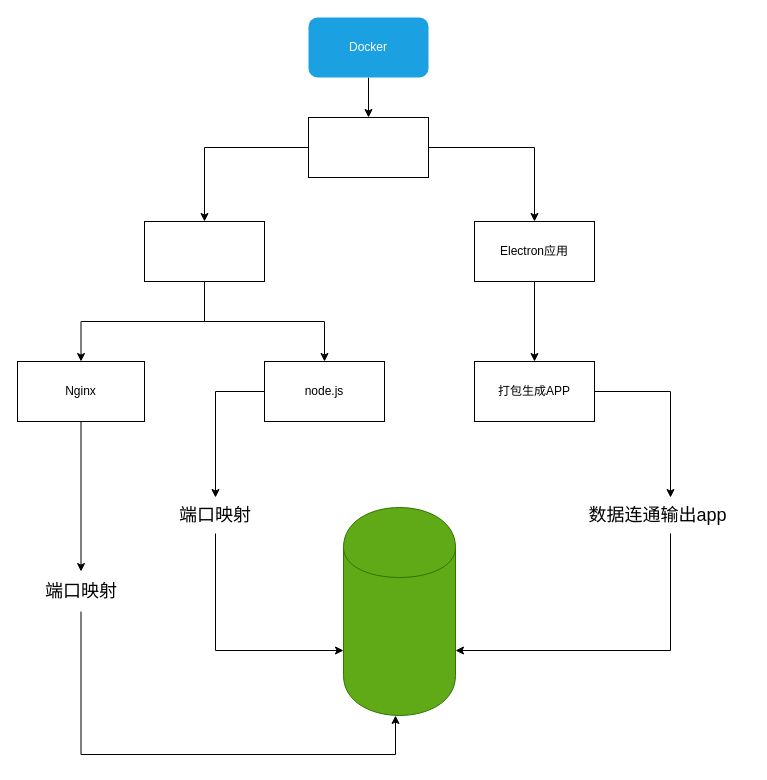
Some shapes in this 767 by 780 pixel diagram are drawn without their labels. The centre of each missing label's shape, as x and y in pixels:
ApiServer: the point at 368,147
web应用: the point at 204,251
物理主机: the point at 399,611
